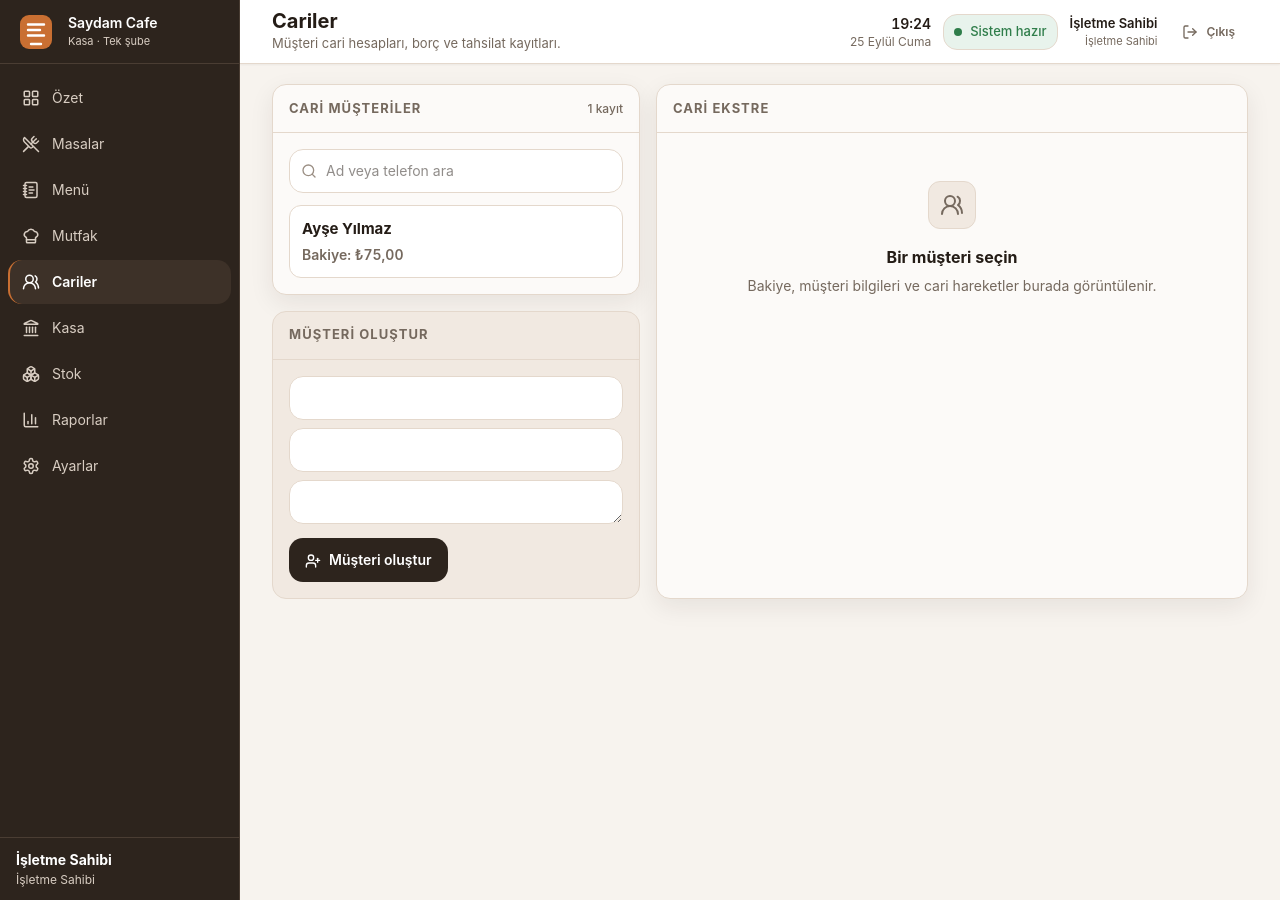
Test: Cari ekranı › müşteri arama, bakiye ve ekstreyi gösterir
The width and height of the screenshot is (1280, 900).
Step 1. Click the text "Ayşe Yılmaz" → click(347, 228), box x1=302 y1=219 x2=392 y2=238
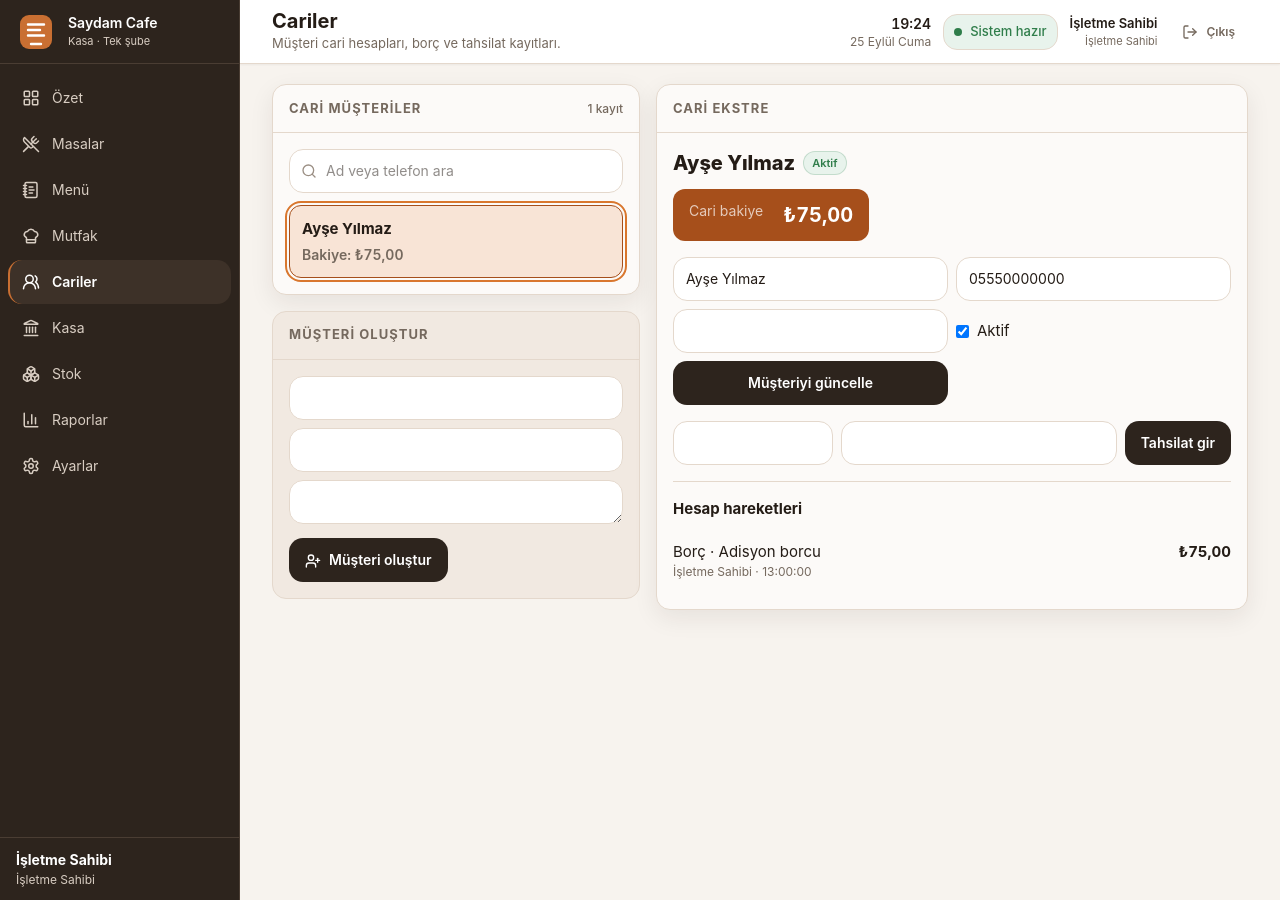
Expected: the text "Bakiye: ₺75,00" is shown, x1=302 y1=246 x2=404 y2=262
Result: the text "Borç · Adisyon borcu İşletme Sahibi · 13:00:00" is shown at x1=673 y1=540 x2=821 y2=581
